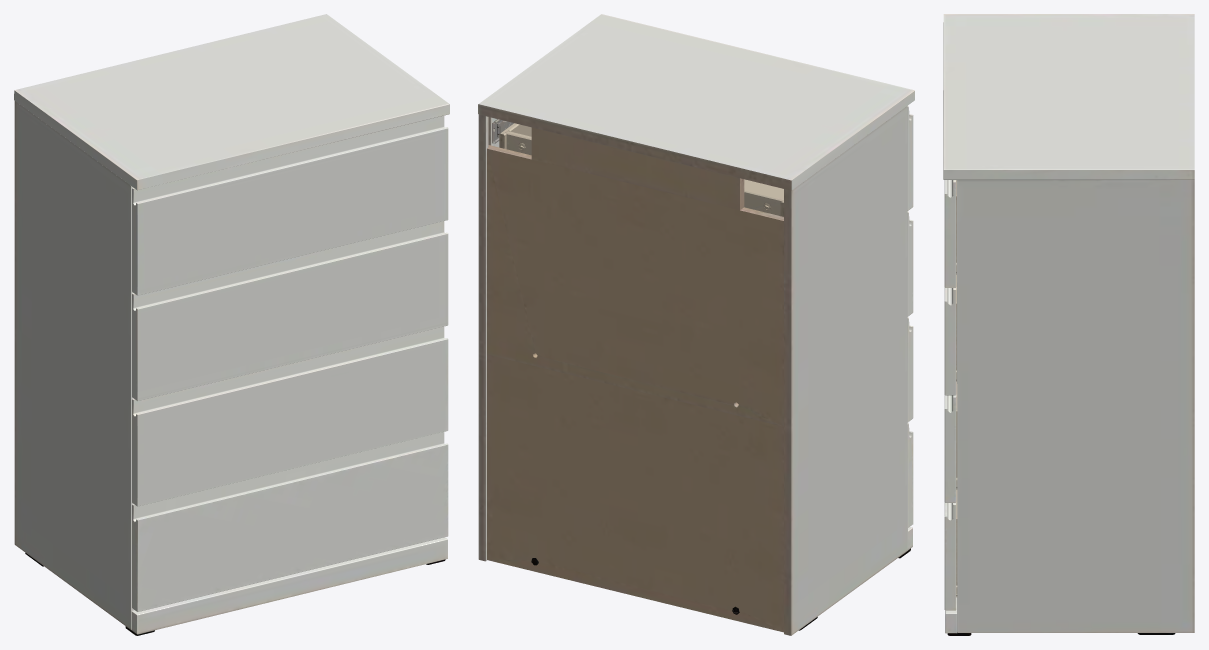
3 renders of one model, left to right at view 1: azimuth 30°, elevation 25°; view 2: azimuth 150°, elevation 25°; view 3: azimuth 270°, elevation 25°, orthographic.
Parts seen in each view (by area): view 1: ASY_LPT01_40559289_S01_NV01 (×4), ASY_ART_40559289_S01_NV01; view 2: ASY_ART_40559289_S01_NV01, ASY_LPT01_40559289_S01_NV01 (×4); view 3: ASY_ART_40559289_S01_NV01, ASY_LPT01_40559289_S01_NV01 (×4).
Part boxes in pixels (x1=…): ASY_LPT01_40559289_S01_NV01 (×4): x1=132, y1=115, x2=448, y2=612; ASY_ART_40559289_S01_NV01: x1=14, y1=14, x2=449, y2=635; ASY_ART_40559289_S01_NV01: x1=478, y1=14, x2=914, y2=635; ASY_LPT01_40559289_S01_NV01 (×4): x1=499, y1=106, x2=913, y2=527; ASY_ART_40559289_S01_NV01: x1=943, y1=14, x2=1194, y2=635; ASY_LPT01_40559289_S01_NV01 (×4): x1=944, y1=180, x2=957, y2=610.
Bounding box in the file's own units: 0.6991 × 0.9775 × 0.4761.
5 materials, 5 textured.
